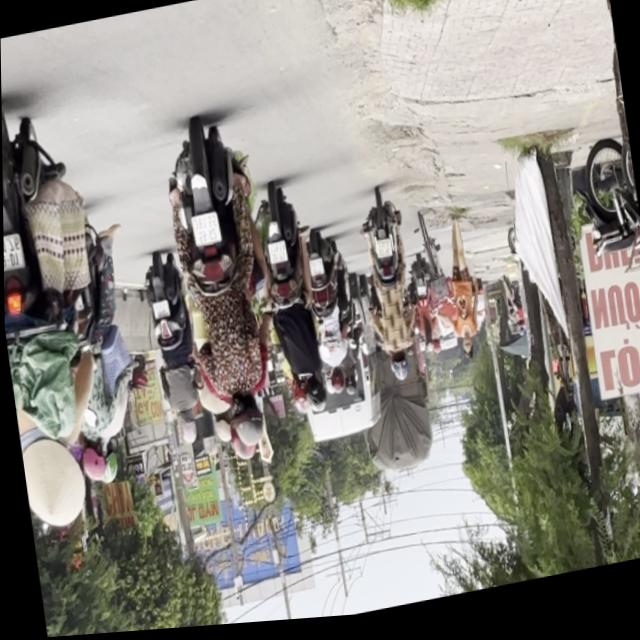helmet: (226, 394, 264, 453), (224, 419, 262, 467), (74, 435, 106, 485), (94, 443, 118, 487), (301, 378, 325, 419), (286, 378, 308, 420), (174, 416, 195, 450), (386, 357, 408, 389), (209, 415, 229, 446)
licenseplate: (1, 83, 127, 541), (153, 112, 288, 472), (46, 203, 146, 494), (248, 183, 329, 429), (351, 190, 423, 394), (137, 250, 206, 455)
motorcyclist: (17, 425, 84, 532)
nohelmet: (188, 213, 220, 249), (3, 233, 21, 272), (265, 244, 286, 269), (150, 301, 168, 322), (373, 244, 391, 265)
